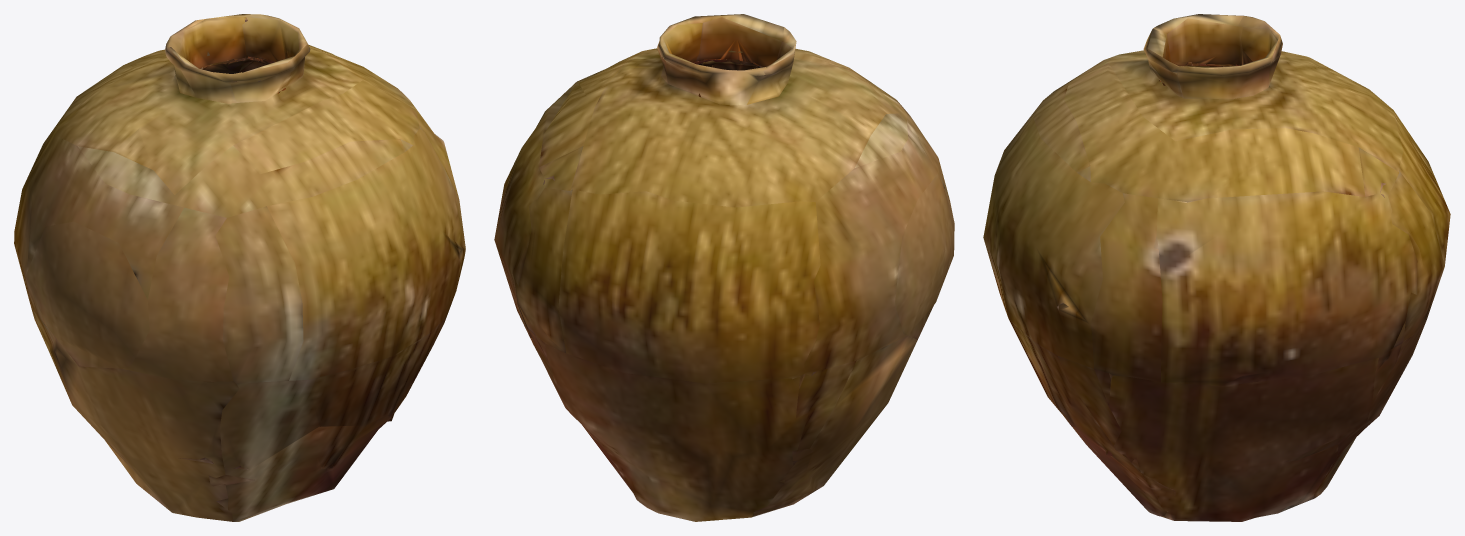
File: cma-echizen-storage-jar.lod1.glb
3 renders of one model, left to right at view 1: azimuth 30°, elevation 25°; view 2: azimuth 150°, elevation 25°; view 3: azimuth 270°, elevation 25°, orthographic.
Parts seen in each view (by area): view 1: 1989.70_echizen_ware_jar; view 2: 1989.70_echizen_ware_jar; view 3: 1989.70_echizen_ware_jar.
Boxes of the visible parts, <box> form: 1989.70_echizen_ware_jar: <box>14,14,465,521</box>; 1989.70_echizen_ware_jar: <box>494,14,954,521</box>; 1989.70_echizen_ware_jar: <box>983,14,1450,521</box>.
Bounding box in the file's own units: 0.4644 × 0.4969 × 0.4735.
Materials: 1 (1 with a texture image).
